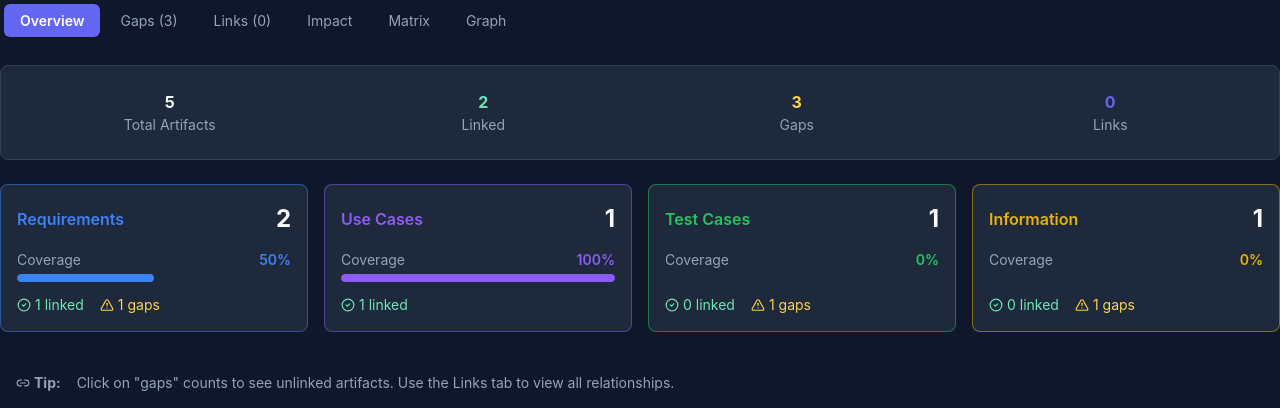
it: TraceabilityDashboard › Tab Navigation › switches to Gaps tab when clicked
Click the button "Gaps (3)" at point(149, 20), box [104,4,194,37]
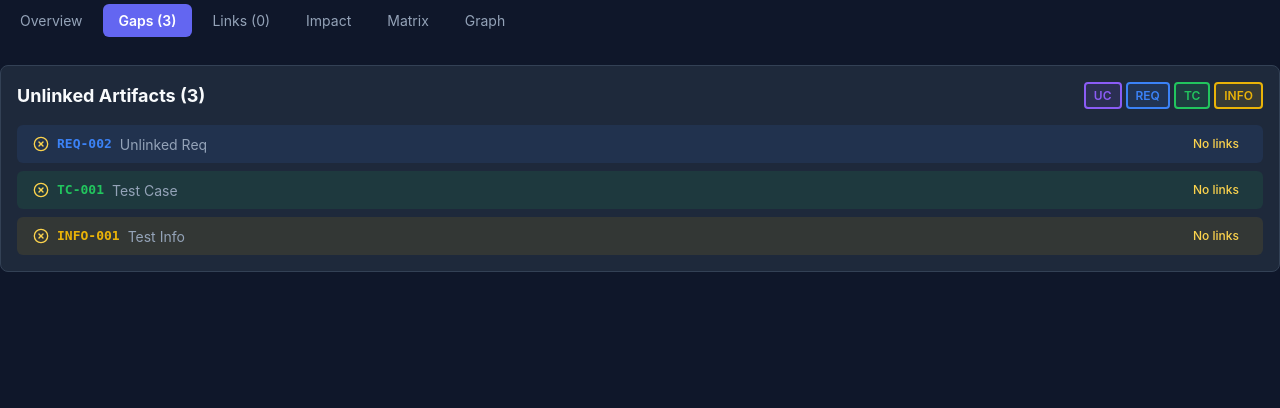
Expected: the heading "Unlinked Artifacts (3)" is shown, [17,82,205,109]
